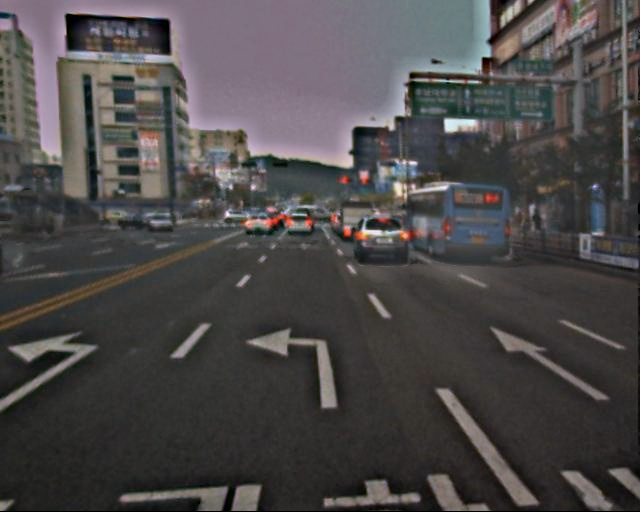person: (531, 208, 546, 245)
